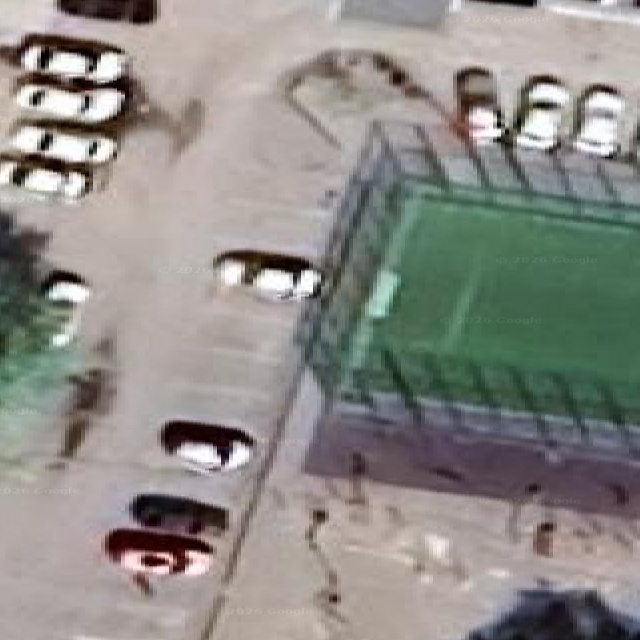car: (15, 74, 127, 124), (18, 34, 127, 84), (214, 250, 321, 299), (161, 421, 254, 472), (7, 121, 116, 164), (513, 76, 569, 151), (0, 154, 91, 200), (40, 270, 90, 347), (455, 67, 503, 143), (574, 85, 624, 157), (57, 0, 158, 23)
